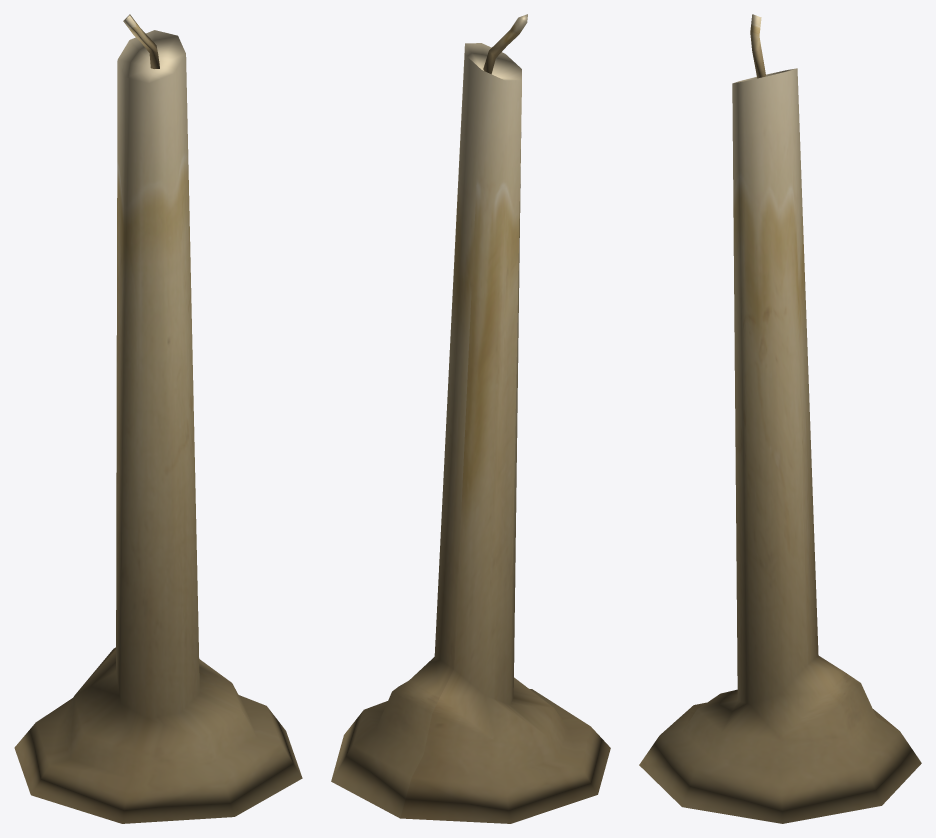
Rendered from CandleLowDetailThin.fbx.
3 renders of one model, left to right at view 1: azimuth 30°, elevation 25°; view 2: azimuth 150°, elevation 25°; view 3: azimuth 270°, elevation 25°, orthographic. The views are drawn at different scales.
Parts seen in each view (by area): view 1: CandleLowDetailThin; view 2: CandleLowDetailThin; view 3: CandleLowDetailThin.
Boxes of the visible parts, left/top/right/bottom form: CandleLowDetailThin: left=14, top=14, right=302, bottom=823; CandleLowDetailThin: left=331, top=14, right=610, bottom=823; CandleLowDetailThin: left=639, top=14, right=921, bottom=823.
Size of the model in its own units: 9.67 by 27.54 by 9.67.
